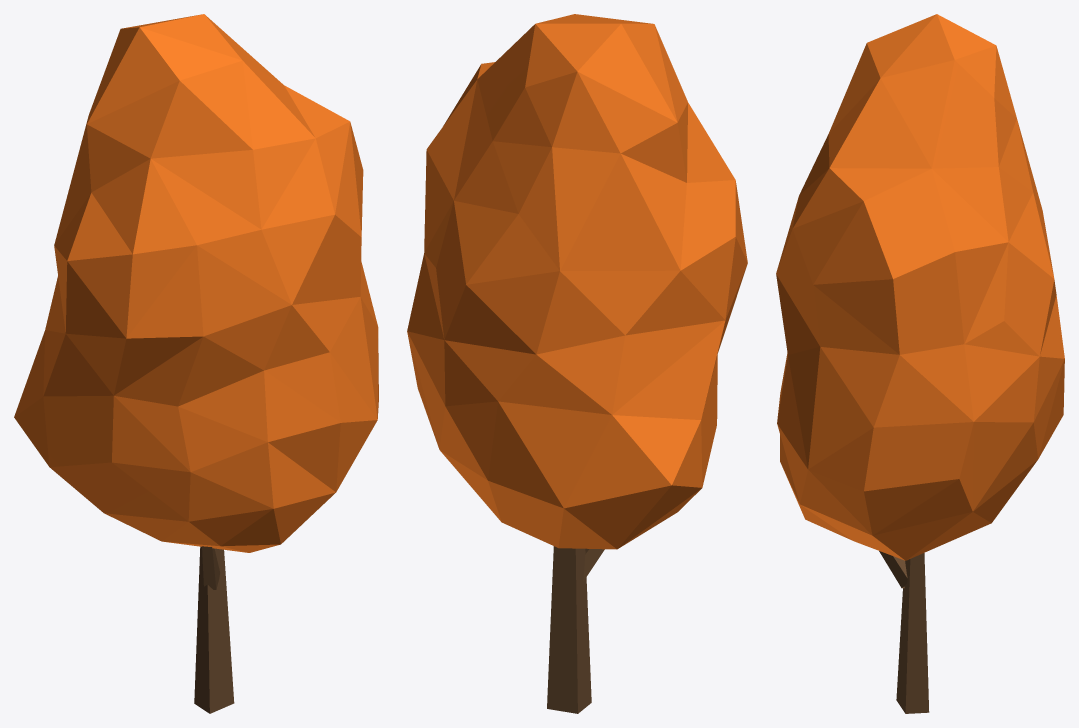
File: tree-beech_orange.glb
3 views of the same model, side by side, from view 1: azimuth 30°, elevation 25°; view 2: azimuth 150°, elevation 25°; view 3: azimuth 270°, elevation 25° (orthographic). The views are drawn at different scales.
Parts seen in each view (by area): view 1: tree-beech_orange; view 2: tree-beech_orange; view 3: tree-beech_orange.
Part boxes in pixels (x1=…): tree-beech_orange: x1=14, y1=14, x2=378, y2=713; tree-beech_orange: x1=407, y1=14, x2=747, y2=713; tree-beech_orange: x1=776, y1=14, x2=1064, y2=713.
Size of the model in its own units: 2.77 by 6.08 by 2.4.
Materials: 1 (1 with a texture image).
